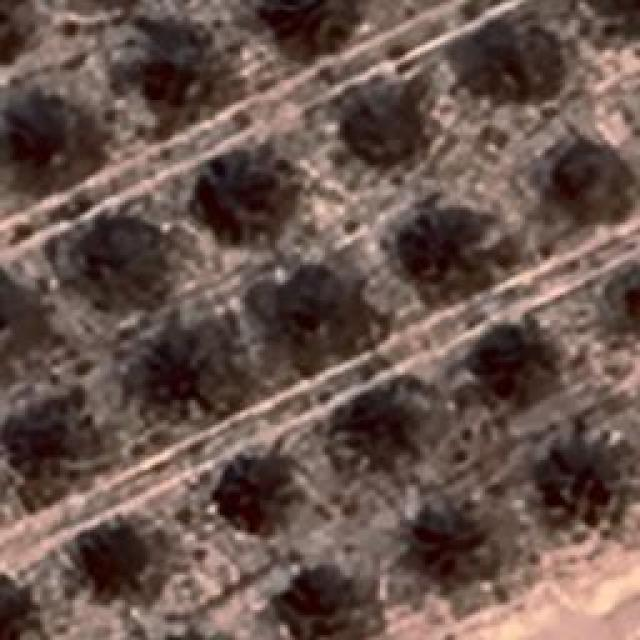PalmTree: (81, 75, 320, 601), (16, 65, 81, 608), (396, 205, 504, 305), (331, 82, 441, 166), (192, 152, 296, 238), (130, 328, 232, 414), (412, 504, 516, 588), (204, 448, 298, 538), (542, 444, 630, 534), (338, 382, 430, 466), (476, 19, 569, 102), (75, 214, 170, 292), (57, 522, 155, 596), (262, 268, 348, 352), (0, 397, 92, 474), (551, 140, 639, 220), (466, 322, 559, 396), (12, 92, 88, 182), (136, 30, 222, 100), (264, 0, 368, 55), (609, 268, 640, 342), (0, 0, 32, 66), (619, 266, 640, 335), (146, 630, 246, 640)
